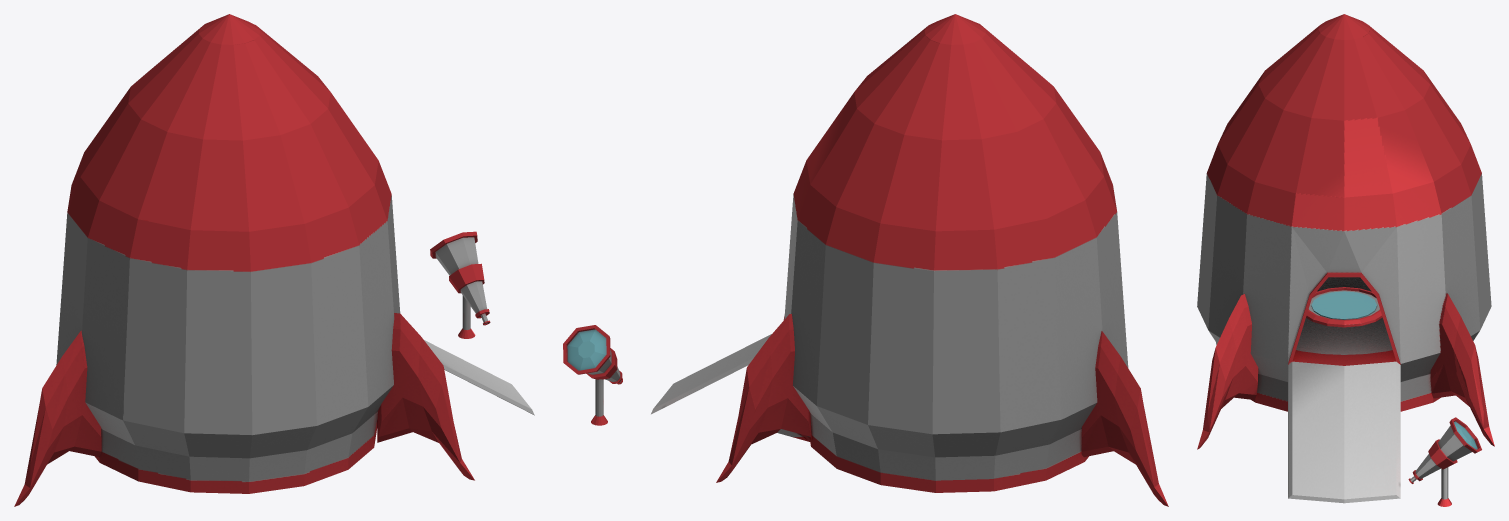
The model's file is Rocket.fbx.
3 views of the same model, side by side, from view 1: azimuth 30°, elevation 25°; view 2: azimuth 150°, elevation 25°; view 3: azimuth 270°, elevation 25° (orthographic). The views are drawn at different scales.
Visible parts, largest first — view 1: Ship, Cone; view 2: Ship, Cone; view 3: Ship, Pad, Cone.
Part boxes in pixels (bbox=[...]): Ship: bbox=[14, 14, 534, 506]; Cone: bbox=[430, 231, 490, 338]; Ship: bbox=[651, 14, 1168, 506]; Cone: bbox=[563, 325, 622, 425]; Ship: bbox=[1197, 14, 1494, 503]; Pad: bbox=[1306, 287, 1382, 327]; Cone: bbox=[1408, 417, 1481, 506].
Bounding box in the file's own units: 353 × 279 × 202.
